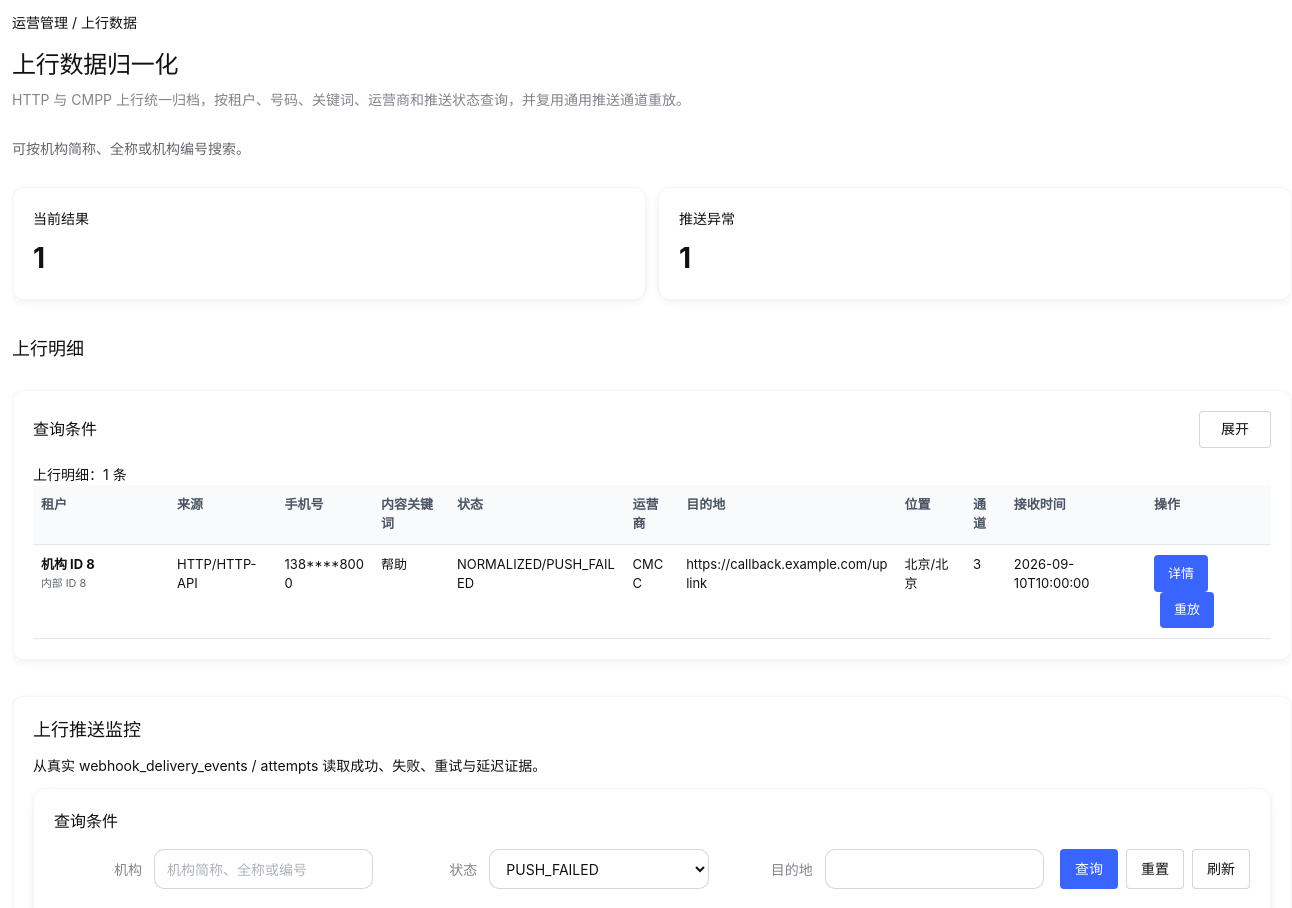
Test: Phase 32 uplink normalization UI › keeps the internal ID visible when tenant metadata is unavailable
Expected: the element with test id "admin-uplink-normalization-uplinks-tenant-cell" shows "机构 ID 8", top-left (41, 556), bottom-right (95, 572)
Step 1. Click the button with test id "admin-uplink-normalization-uplink-detail" → (1181, 573), box top-left (1154, 555), bottom-right (1208, 592)
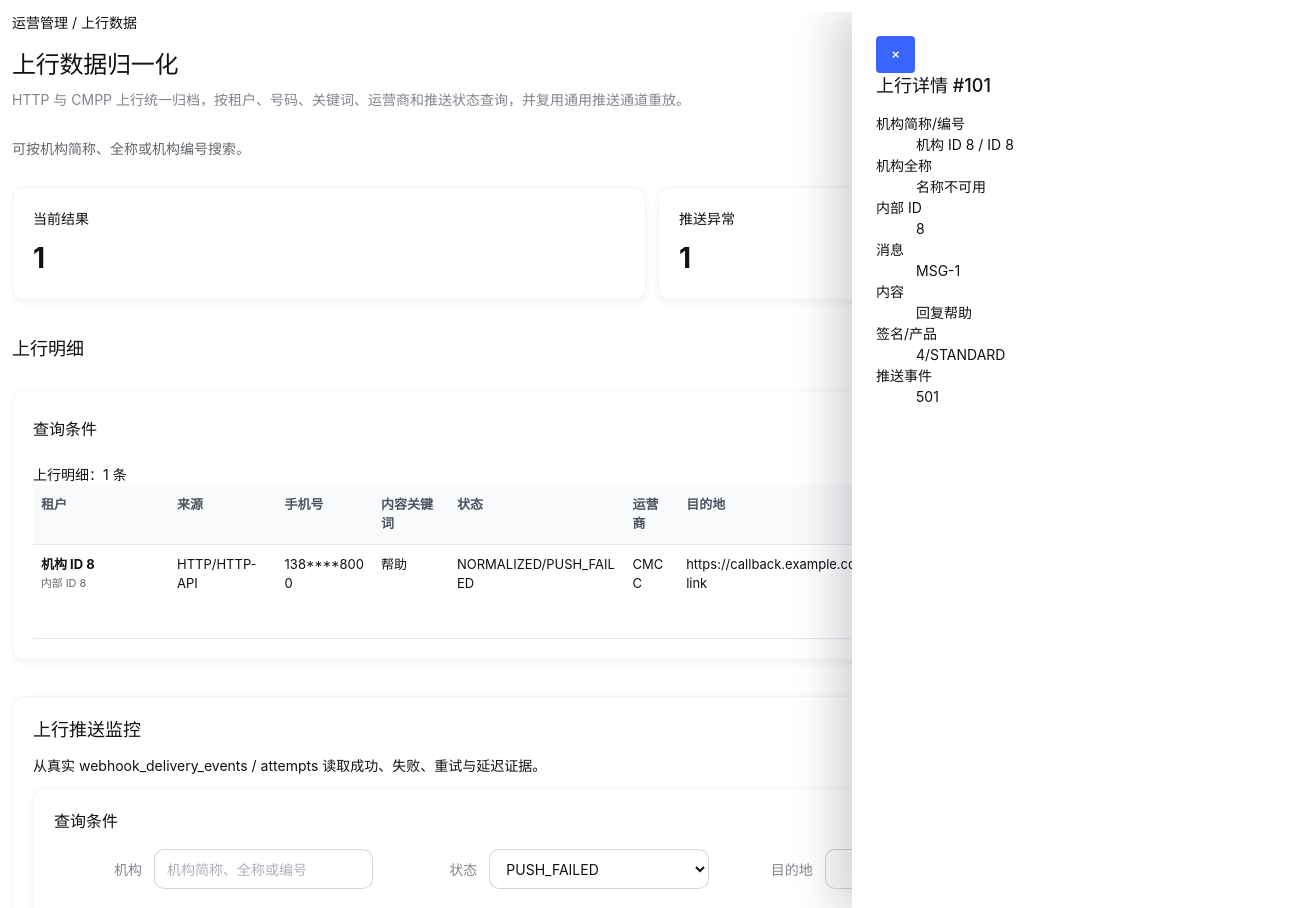
Result: the element with test id "admin-uplink-normalization-detail-tenant-identity" shows "名称不可用" at top-left (916, 178), bottom-right (986, 195)
